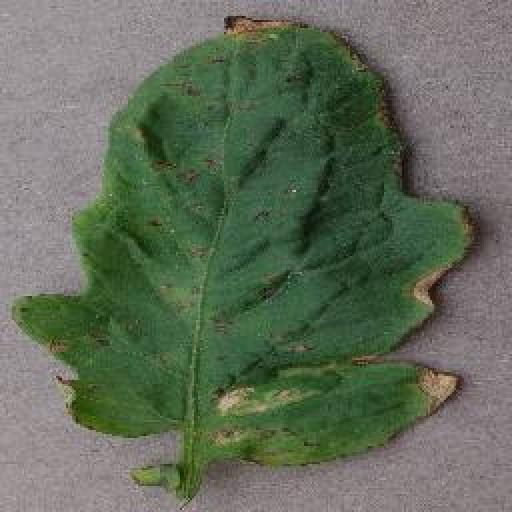Bacterial Spot: (5, 10, 484, 499)
